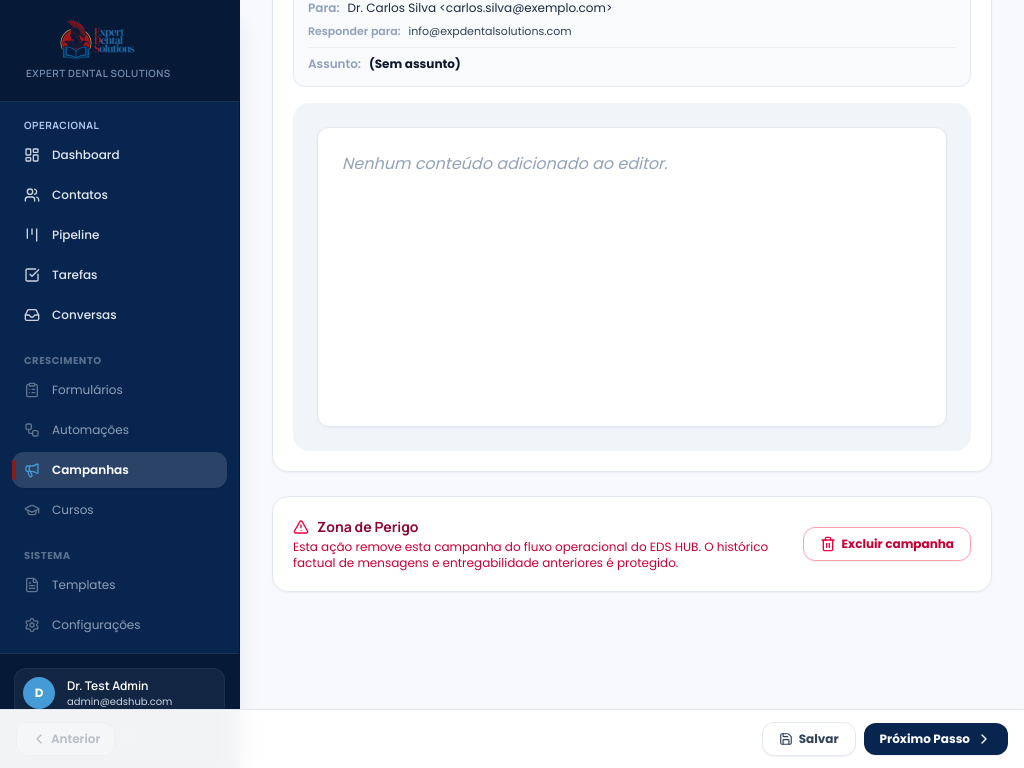
Test: EDS HUB — Campaign Delete, Real Lead Picker & Safe Lead Delete Suite › Part 1: Safe Campaign Deletion › 2. Clicking "Excluir campanha" opens confirmation modal without immediately deleting
This screenshot has width=1024, height=768.
(page scrolled)
What coordinates should you click on to do the following:
click the button with test id "delete-campaign-button"
I would click on:
 (887, 544)
Its box is [803,527,971,561].
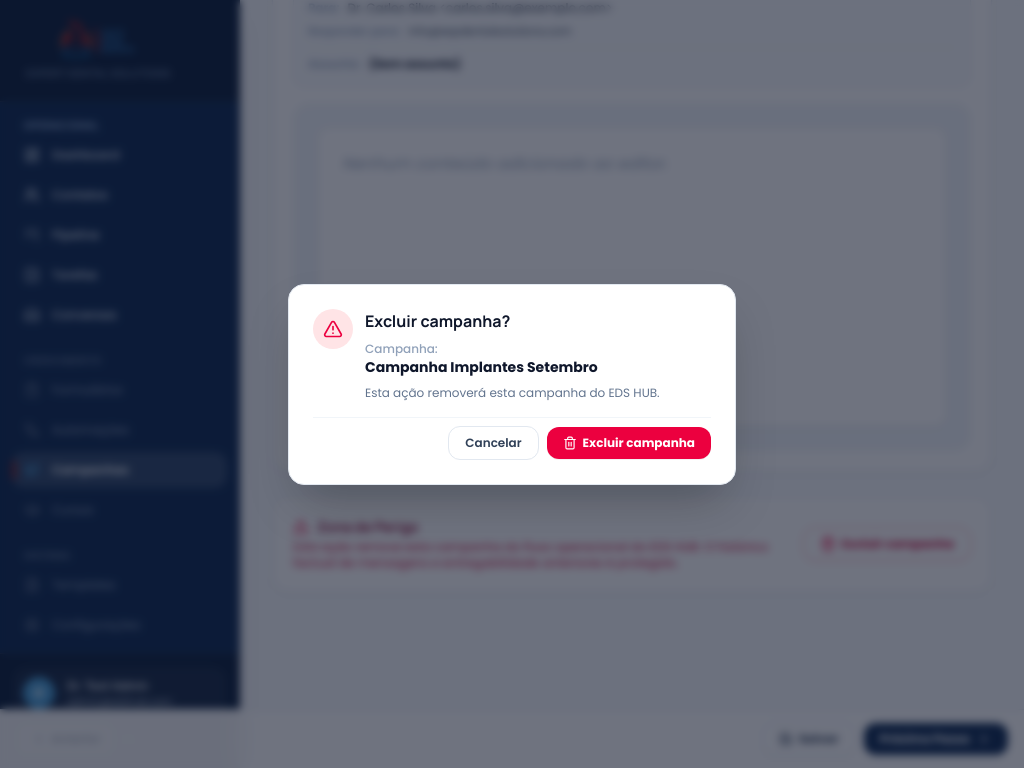
Result: the heading "Excluir campanha?" is shown at [365,310,510,332]
Result: the text "Esta ação removerá esta campanha do EDS HUB." is shown at [365,384,711,400]
Result: the button with test id "confirm-delete-campaign-button" is shown at [547,426,711,458]
